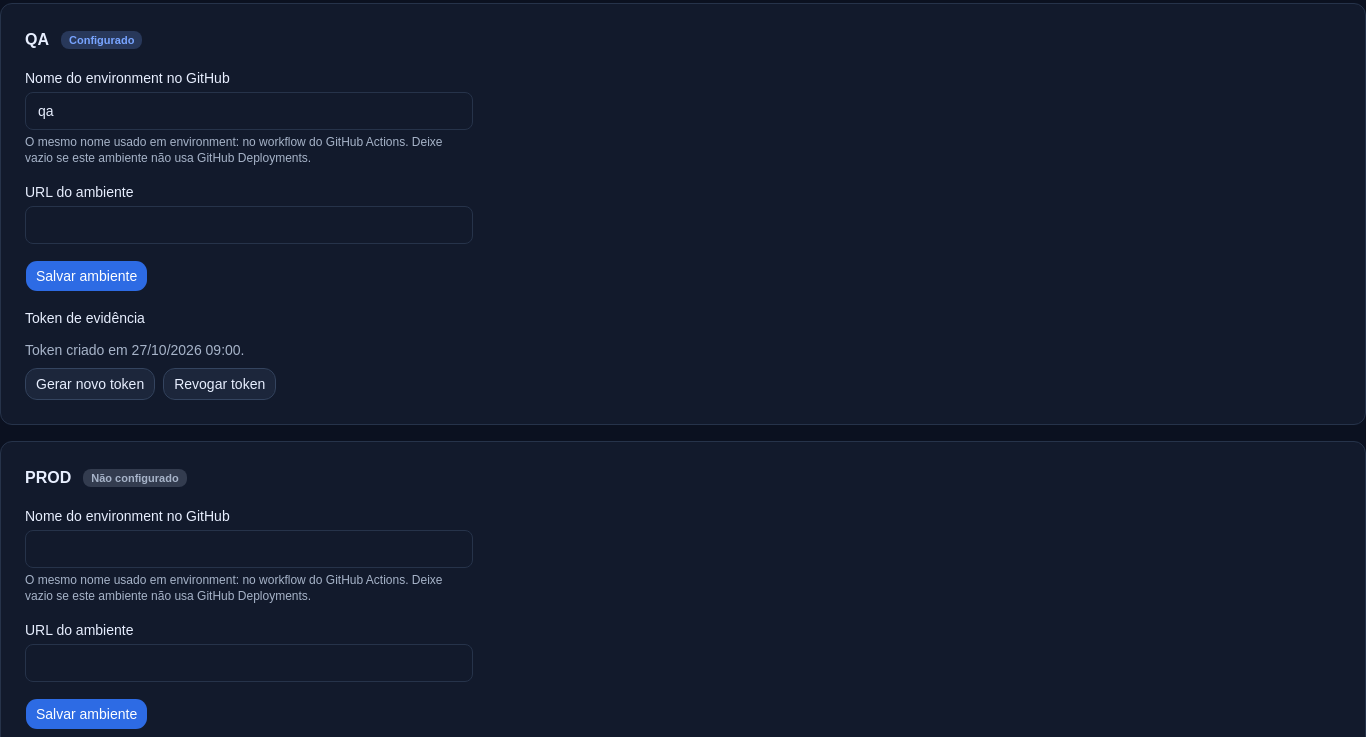
Test: AmbientesDoProjeto › gerar novo token pede confirmação e mostra o token devolvido uma vez, com "Copie agora"
(page scrolled)
Click the button "Gerar novo token" at (90, 384), box x1=25 y1=368 x2=155 y2=400
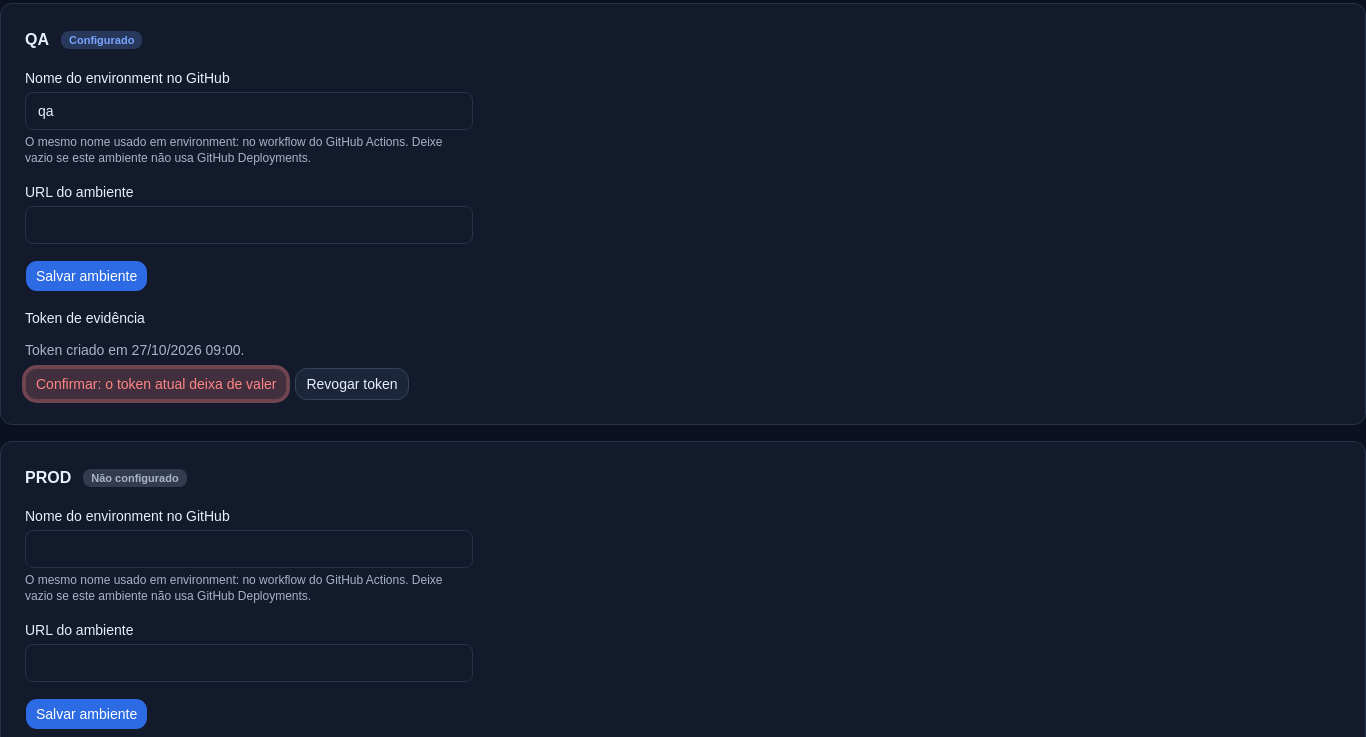
Click the button "Confirmar: o token atual deixa de valer" at (156, 384), box x1=25 y1=368 x2=288 y2=400
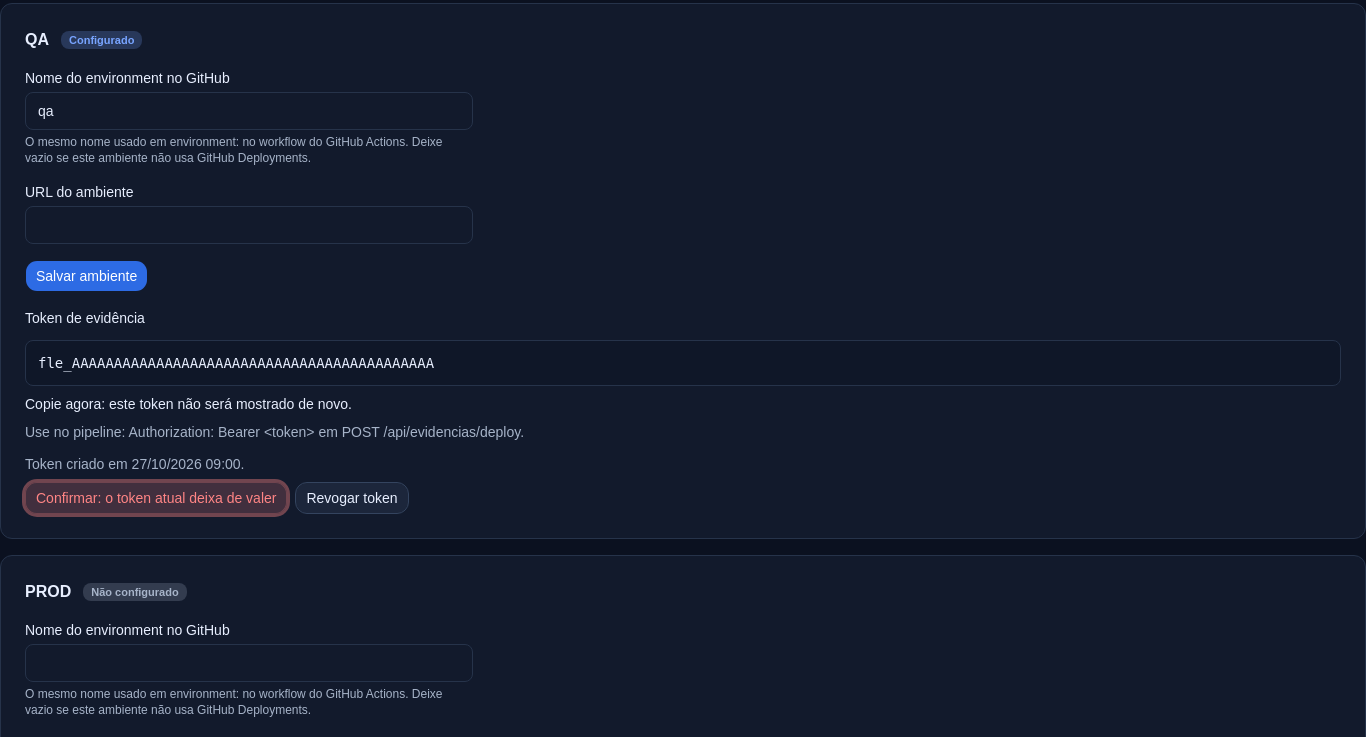
Result: the text "Copie agora: este token não será mostrado de novo." is shown at x1=25 y1=396 x2=352 y2=412
